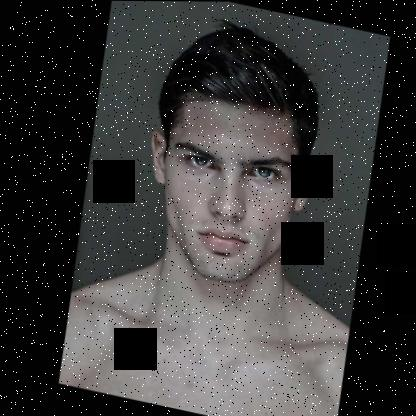Male: (121, 81, 330, 294)
